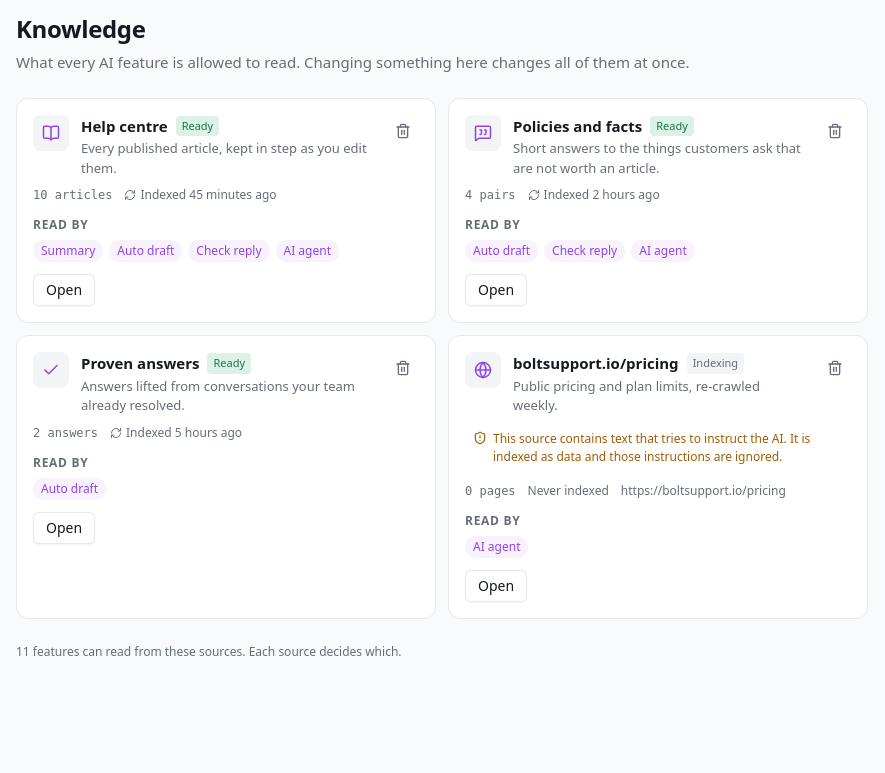
the knowledge layer › offers every feature as a scope, so adding one cannot be forgotten here
What coordinates should you click on to do the following:
click the button "Open" below "Summary"
I would click on:
 (64, 290)
Its box is [33,274,95,306].
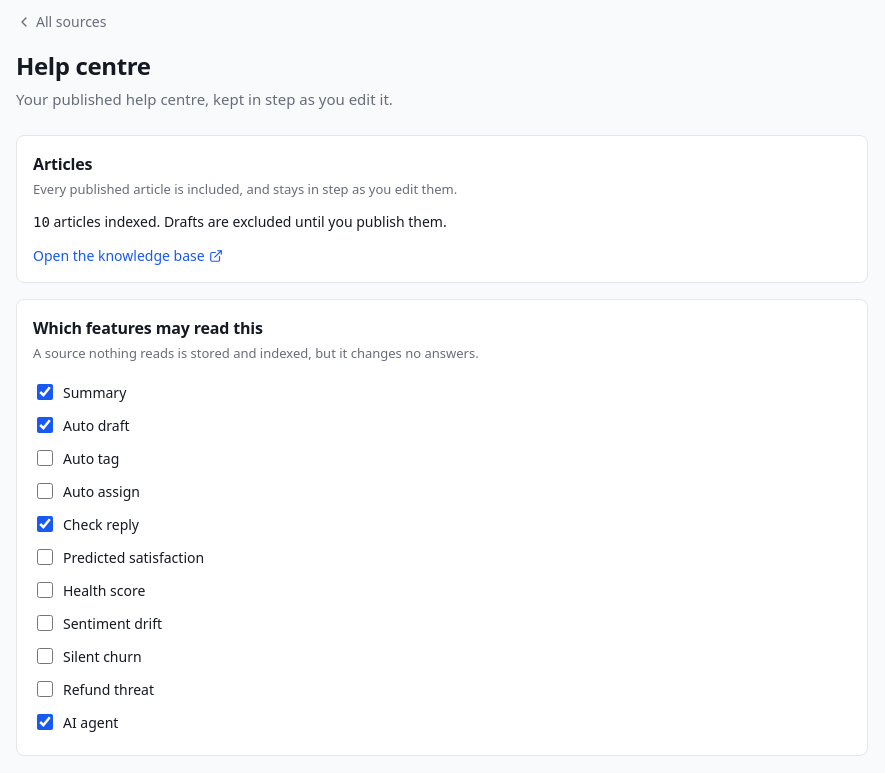
Expected: the checkbox labelled "Summary" is shown, [37,384,53,400]
Expected: the checkbox labelled "Auto draft" is shown, [37,417,53,433]
Expected: the checkbox labelled "Auto tag" is shown, [37,450,53,466]
